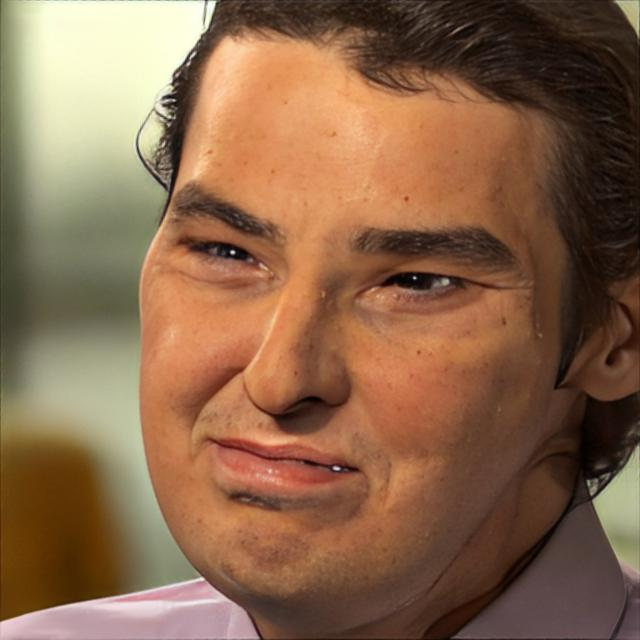disgust: (139, 0, 562, 632)
